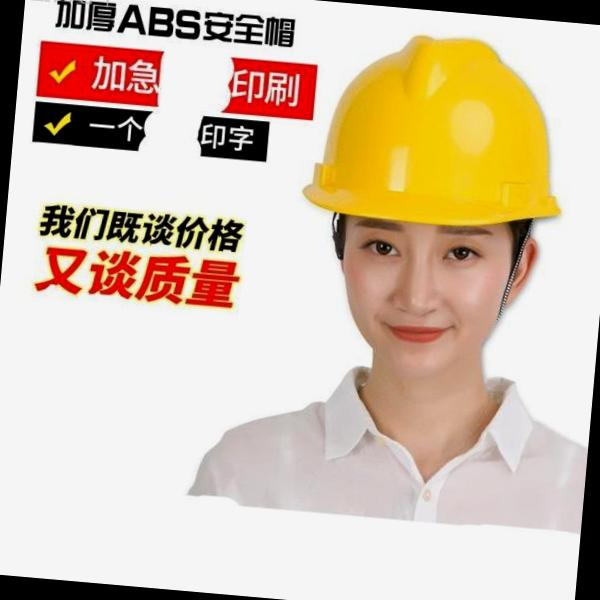helmet: (290, 19, 592, 250)
no_vest: (186, 358, 593, 540)
person: (266, 21, 600, 559)
